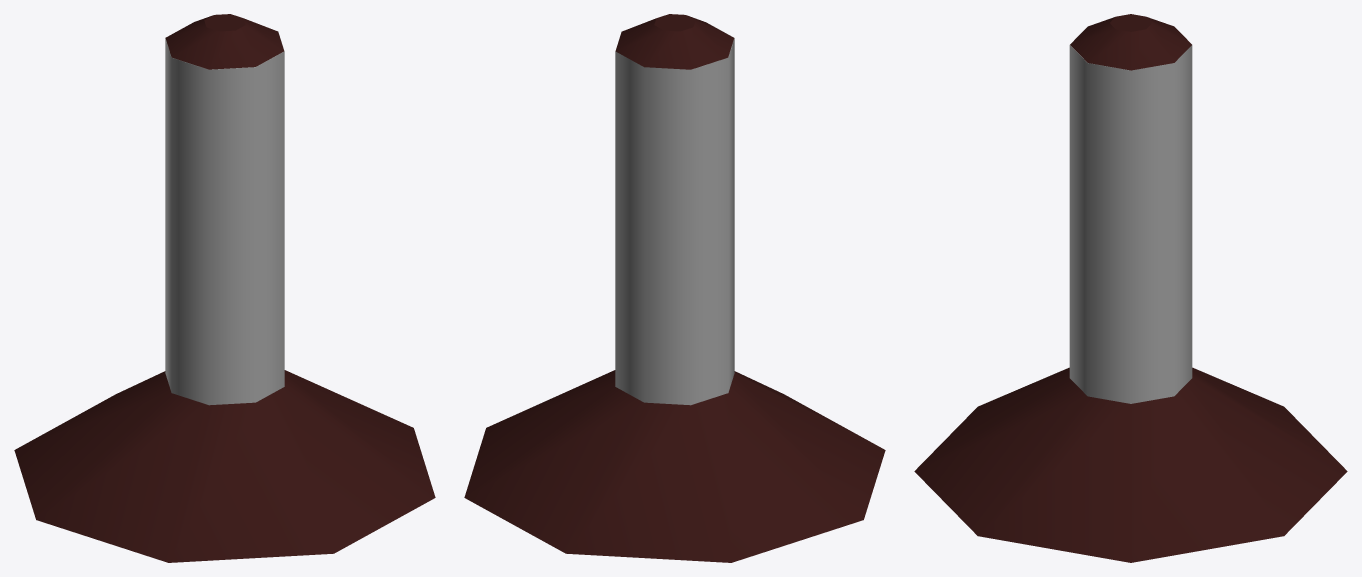
File: burner.FBX
The picture shows the model from 3 angles, left to right: view 1: azimuth 30°, elevation 25°; view 2: azimuth 150°, elevation 25°; view 3: azimuth 270°, elevation 25°; orthographic projection.
Parts seen in each view (by area): view 1: Cylinder006, Cylinder004, Cylinder007; view 2: Cylinder006, Cylinder004, Cylinder007; view 3: Cylinder006, Cylinder004, Cylinder007.
Boxes of the visible parts, x1,y1,x2,y2 form: Cylinder006: [14, 370, 435, 562]; Cylinder004: [165, 31, 284, 405]; Cylinder007: [165, 14, 283, 69]; Cylinder006: [464, 370, 885, 562]; Cylinder004: [615, 23, 734, 405]; Cylinder007: [615, 14, 734, 69]; Cylinder006: [914, 367, 1347, 562]; Cylinder004: [1069, 26, 1192, 403]; Cylinder007: [1070, 14, 1191, 70].
Bounding box in the file's own units: 17.96 × 20.5 × 17.96.
